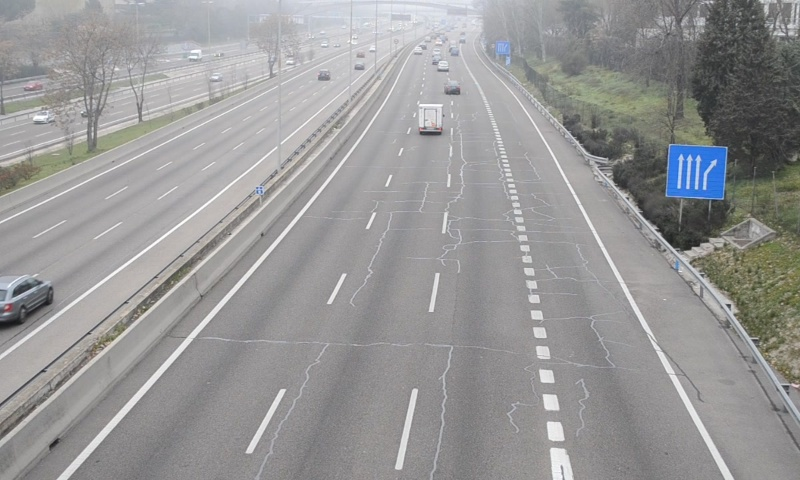car: (445, 78, 460, 94)
small-truck: (416, 103, 444, 134)
